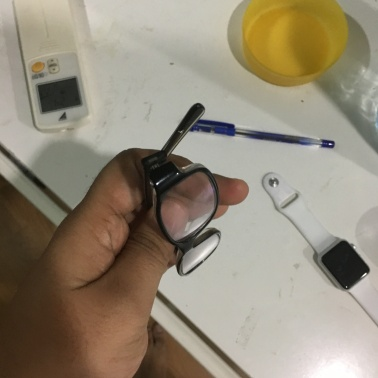glasses: (141, 127, 228, 276)
